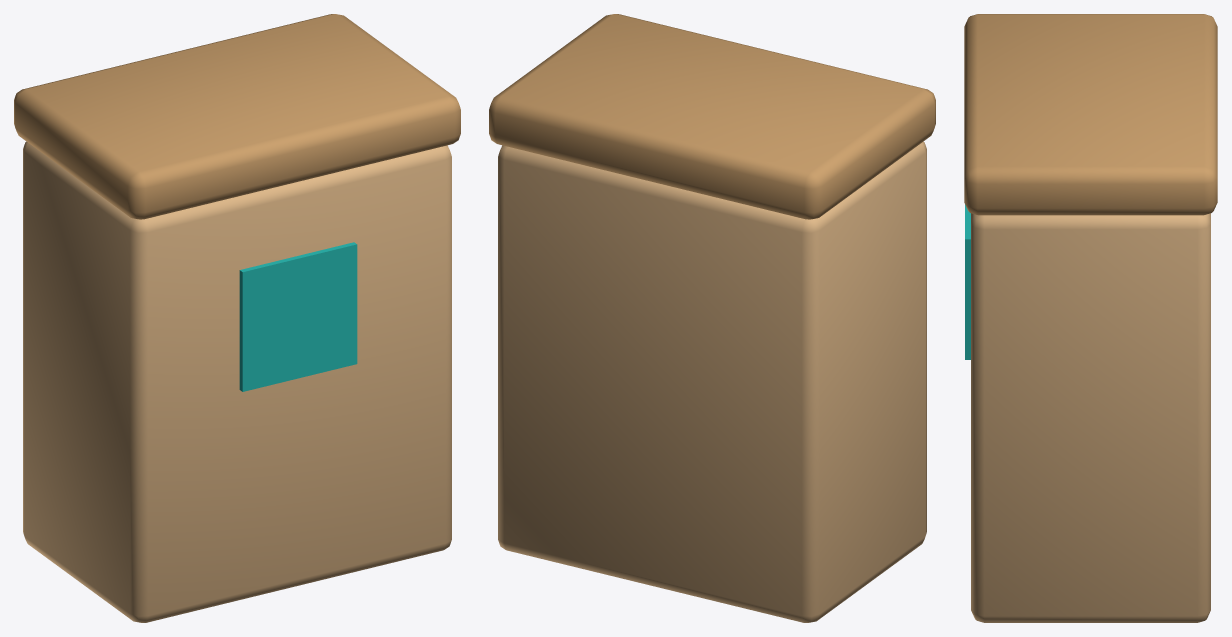
Rendered from paper_bag.gltf.
3 renders of one model, left to right at view 1: azimuth 30°, elevation 25°; view 2: azimuth 150°, elevation 25°; view 3: azimuth 270°, elevation 25°, orthographic.
Visible parts, largest first — view 1: paper_bag_mesh; view 2: paper_bag_mesh; view 3: paper_bag_mesh.
Boxes of the visible parts, x1,y1,x2,y2 form: paper_bag_mesh: (14,14,460,622); paper_bag_mesh: (489,14,935,622); paper_bag_mesh: (964,14,1217,622).
Bounding box in the file's own units: 0.29 × 0.38 × 0.19.
